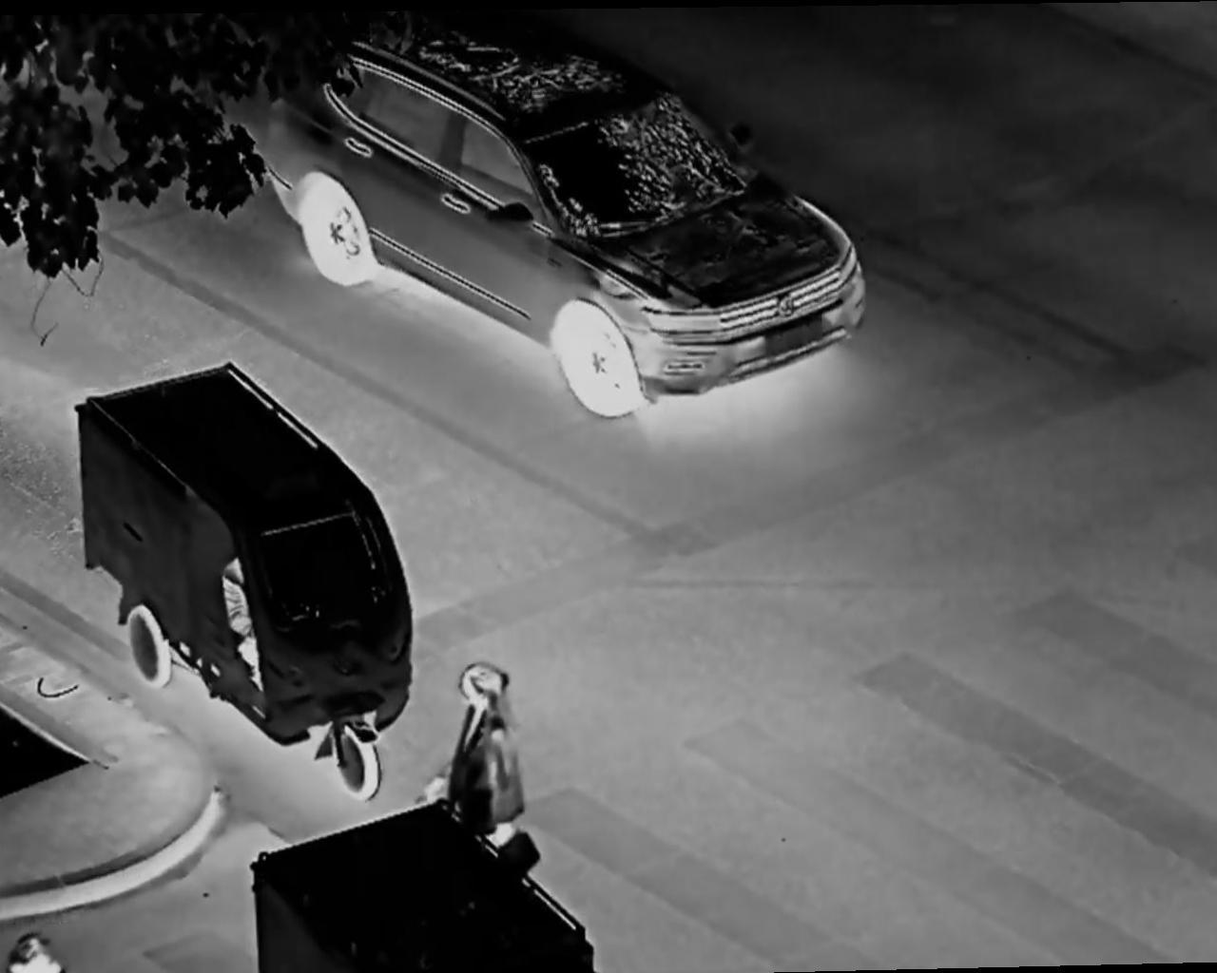person: (429, 658, 547, 895)
